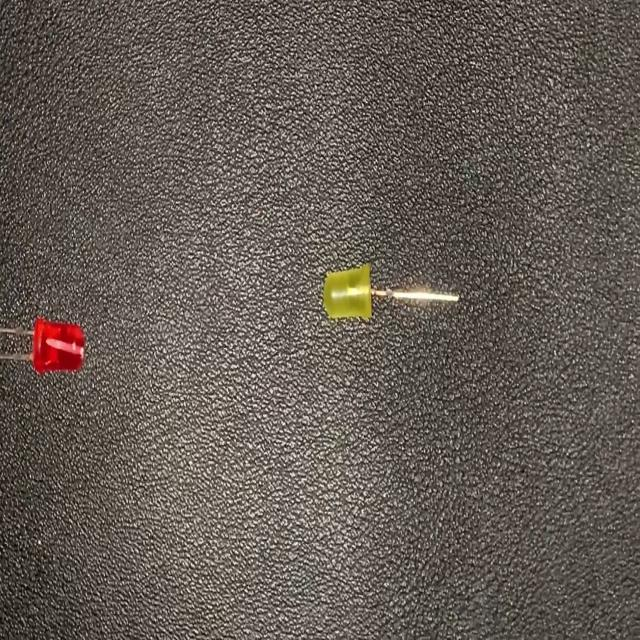LED: (0, 313, 87, 379)
missing-leg: (322, 261, 463, 325)
